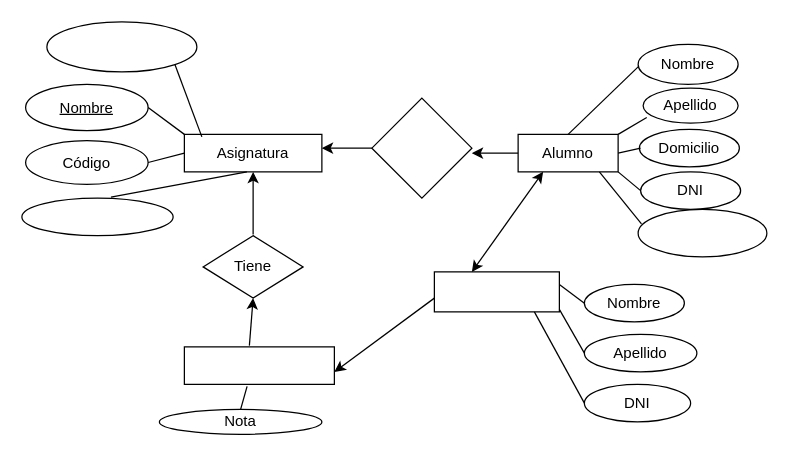
Some shapes in this 789 by 456 pixel diagram are drawn without their labels. Each missing label, with the centre of its shape:
"Calificaciones" belongs at [258,365].
"CodEstudiante" belongs at [702,232].
"Docente" belongs at [496,291].
"matricula" belongs at [421,147].
"N_repetidas" belongs at [97,216].
"N_semestre" belongs at [121,46].
